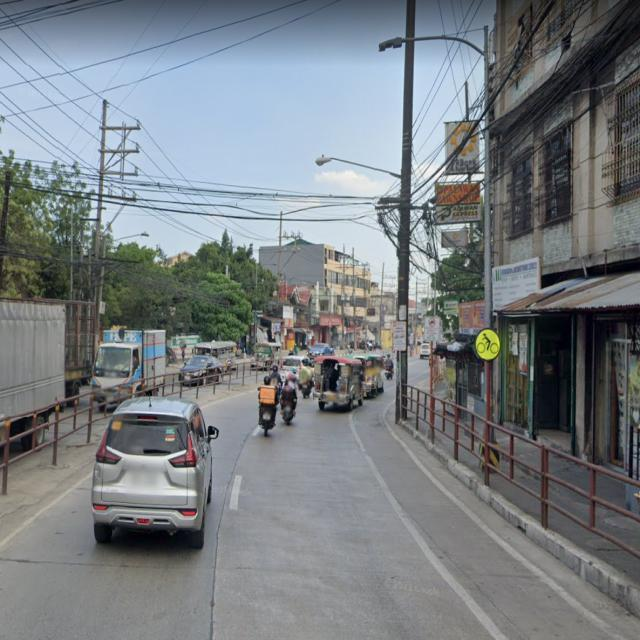bike lane: (472, 324, 503, 368)
